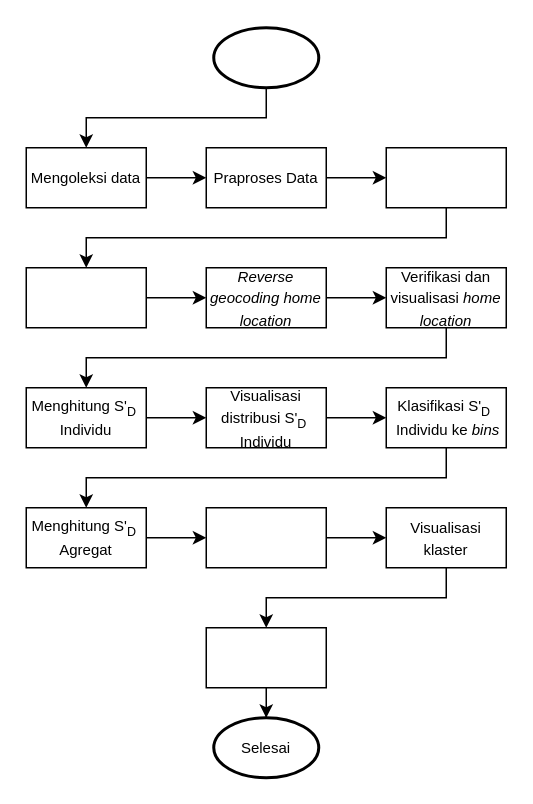
Some shapes in this 533 by 804 pixel diagram are drawn without their labels. Here are the shapes that lost their labels. From the top down, the centre of each, then its label:
At point 266,57: "Mulai".
At point 445,177: "Reverse Geocoding".
At point 85,297: "Estimasi home location".
At point 265,537: "Agglomerative clustering kecamatan".
At point 265,657: "Analisis Data".
